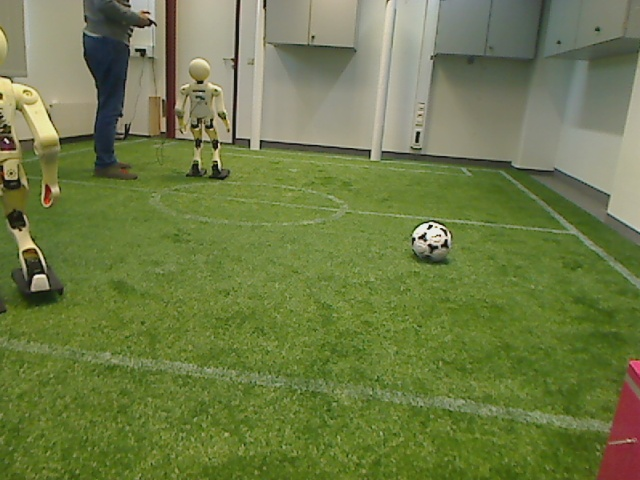ball: (407, 217, 454, 266)
robot: (1, 15, 65, 309), (173, 58, 230, 180)
